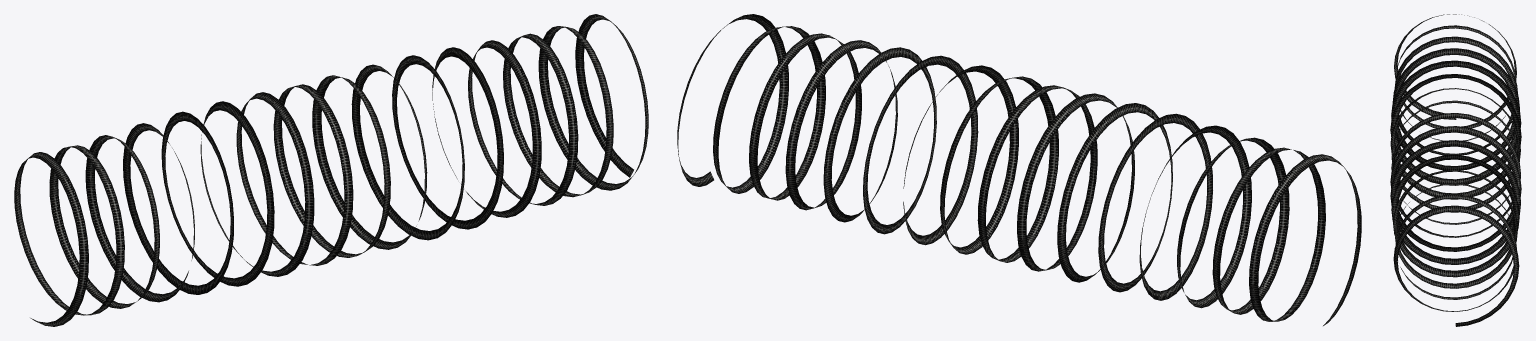
Rendered from barbed-wire.glb.
The picture shows the model from 3 angles, left to right: view 1: azimuth 30°, elevation 25°; view 2: azimuth 150°, elevation 25°; view 3: azimuth 270°, elevation 25°; orthographic projection. The views are drawn at different scales.
Parts seen in each view (by area): view 1: Spiral.004; view 2: Spiral.004; view 3: Spiral.004.
Part boxes in pixels (x1=…): Spiral.004: x1=14, y1=14, x2=648, y2=326; Spiral.004: x1=677, y1=14, x2=1361, y2=325; Spiral.004: x1=1390, y1=14, x2=1521, y2=326.
Bounding box in the file's own units: 64.17 × 17 × 16.99.
Materials: 1 (1 with a texture image).
